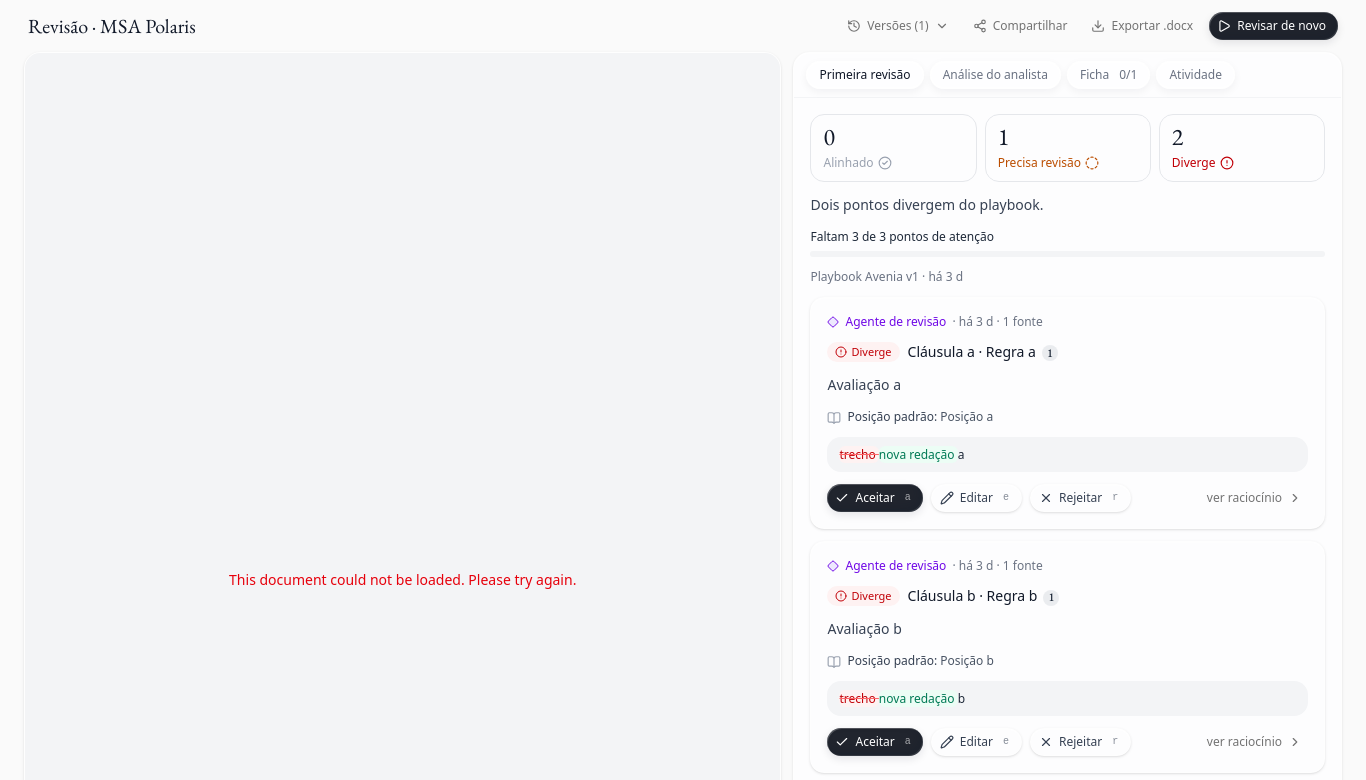
ContractReviewWorkspace › sends every decision made in quick succession, each after its own undo window
Click the 4th button named "Aceitar" at (875, 498), box [828,484,923,512]
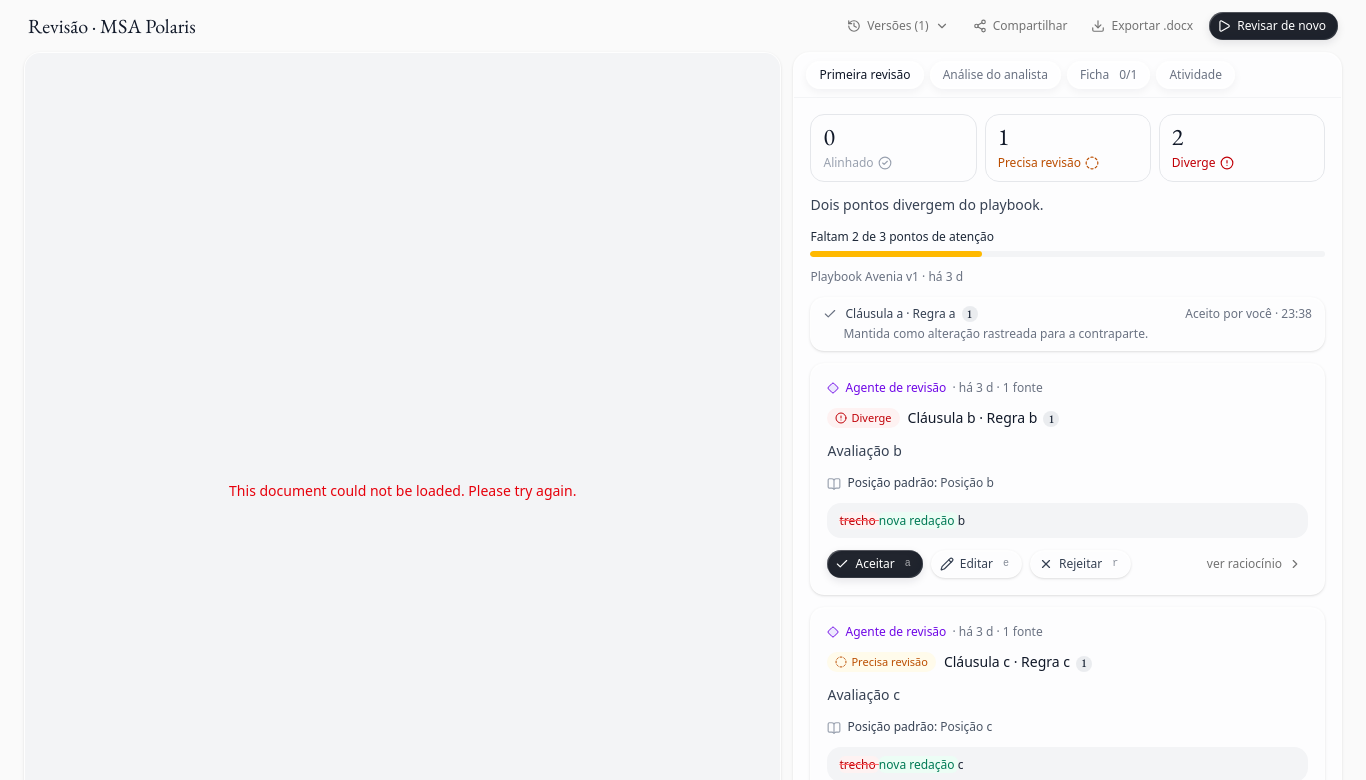
Click the 4th button named "Aceitar" at (875, 564), box [828,550,923,578]
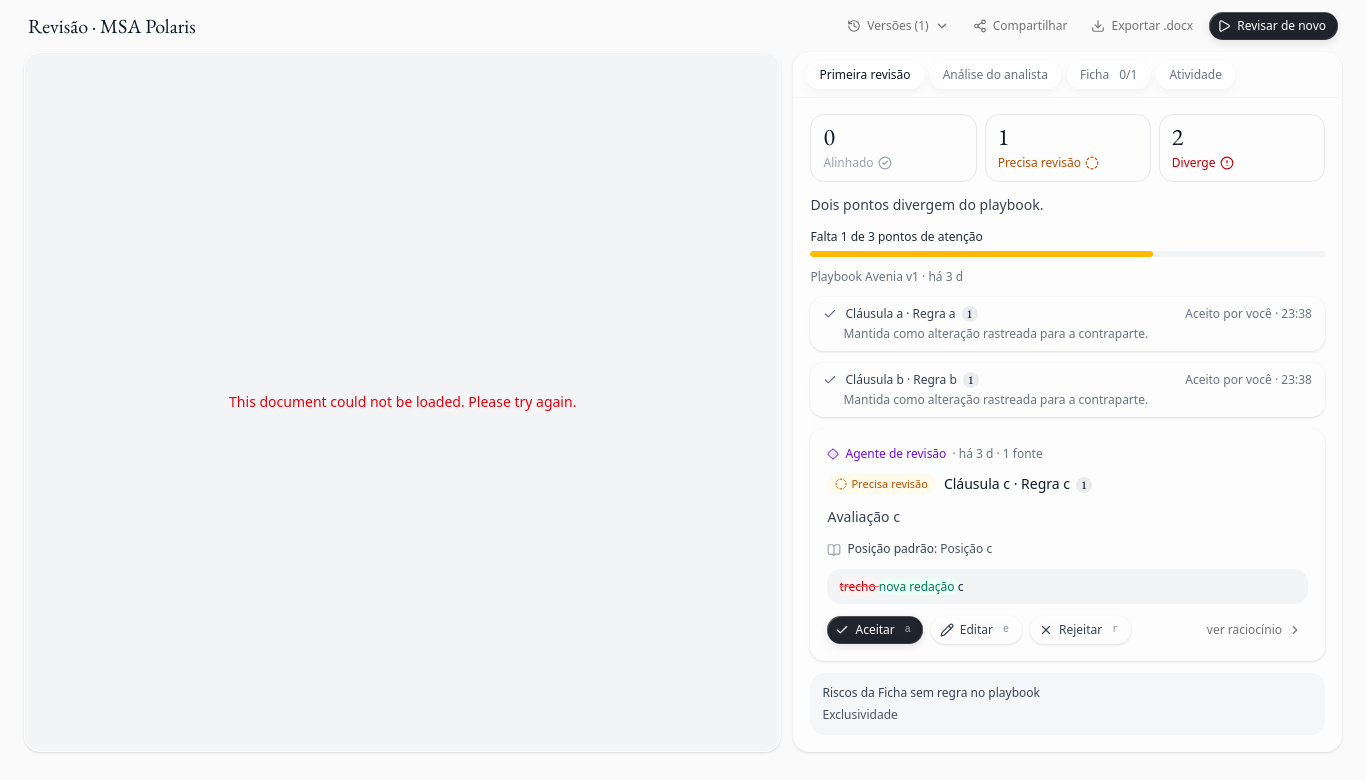
Click the 4th button named "Aceitar" at (875, 630), box [828,616,923,644]
Wait 10000 ms
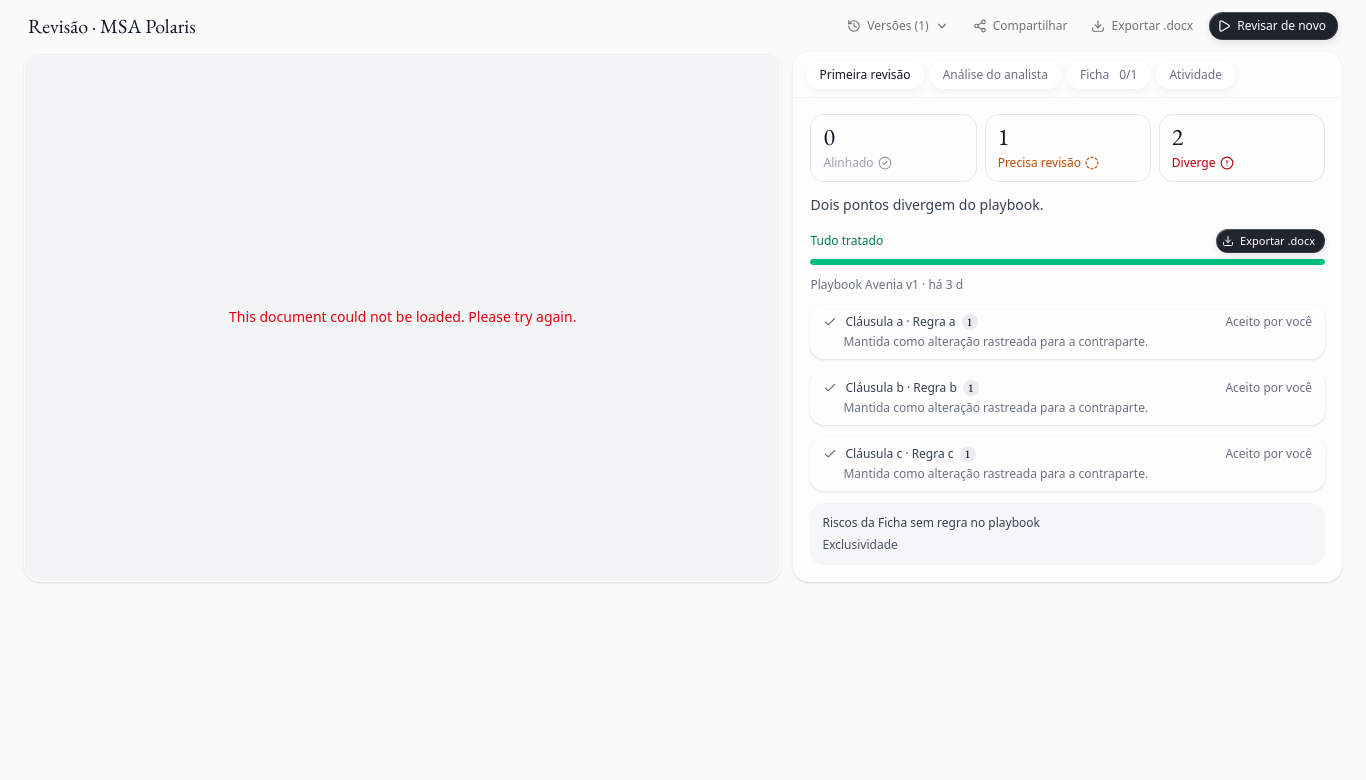
Check: the number of buttons named "Reabrir: Aceito" is 3, box [824,314,1312,330]; [824,380,1312,396]; [824,446,1312,462]
Check: the message "Tudo tratado" is shown, box [810,229,1325,265]
